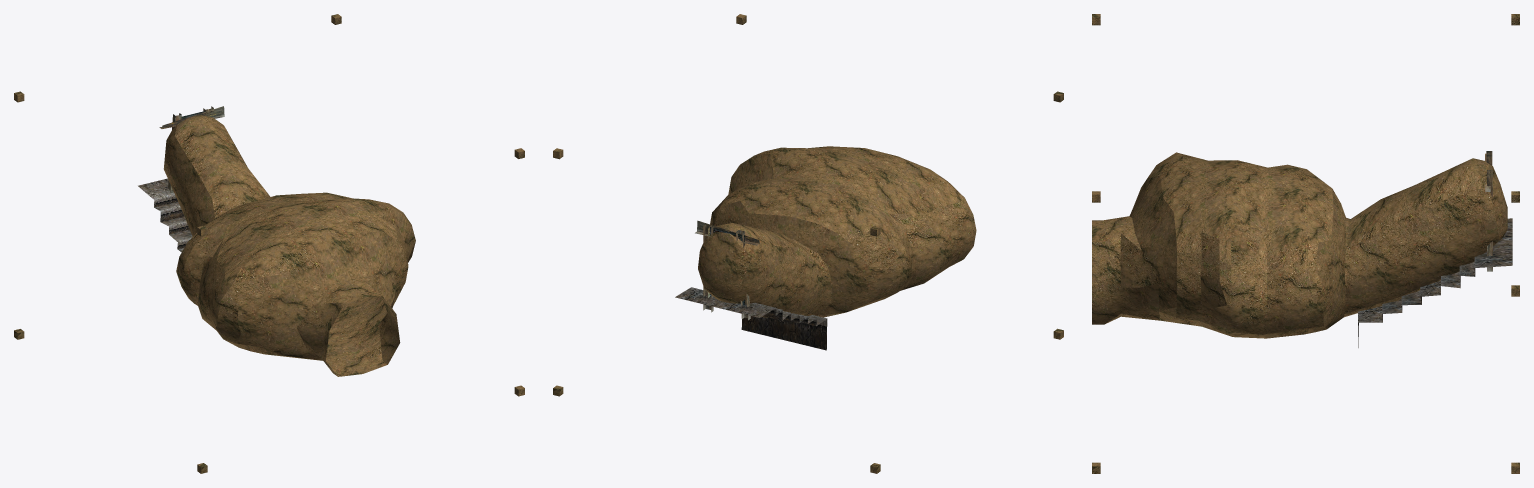
File: lba_1d.glb
3 renders of one model, left to right at view 1: azimuth 30°, elevation 25°; view 2: azimuth 150°, elevation 25°; view 3: azimuth 270°, elevation 25°, orthographic. The views are drawn at different scales.
Parts seen in each view (by area): view 1: lba_1d; view 2: lba_1d; view 3: lba_1d.
Part boxes in pixels (x1,y1,x2,y2): lba_1d: [14, 14, 524, 473]; lba_1d: [553, 14, 1063, 473]; lba_1d: [1092, 14, 1519, 473].
Size of the model in its own units: 15 by 10.8 by 15.
4 materials, 4 textured.
